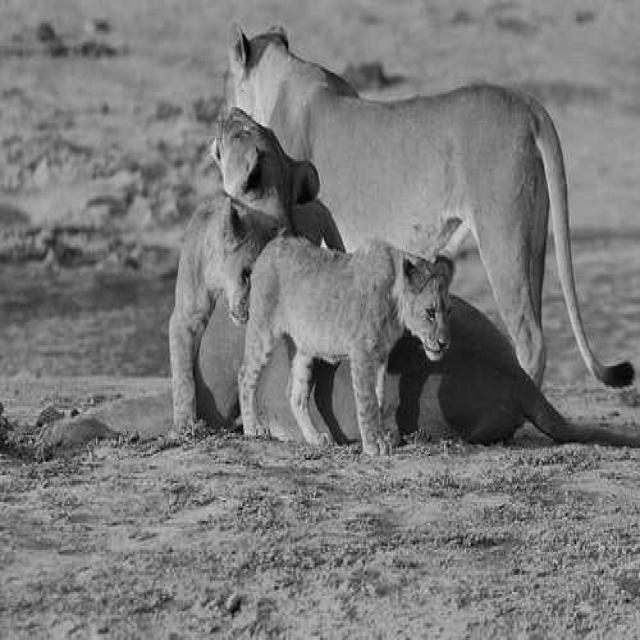Lion: (234, 214, 464, 480)
